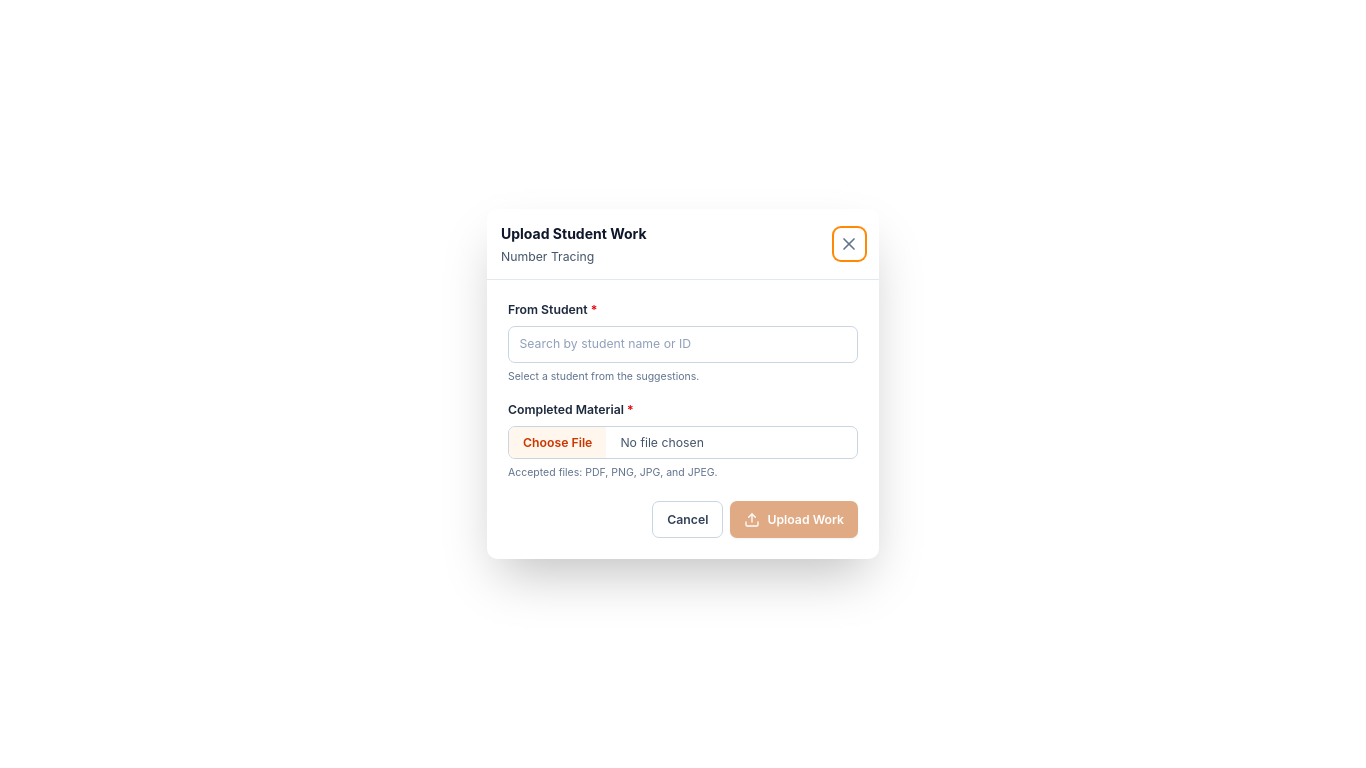
Test: UploadStudentWork student picker › matches a numeric student ID without throwing
The width and height of the screenshot is (1366, 768).
Step 1. Type "123" into the field labelled "From Student *" → (683, 344), box [508,326,858,362]
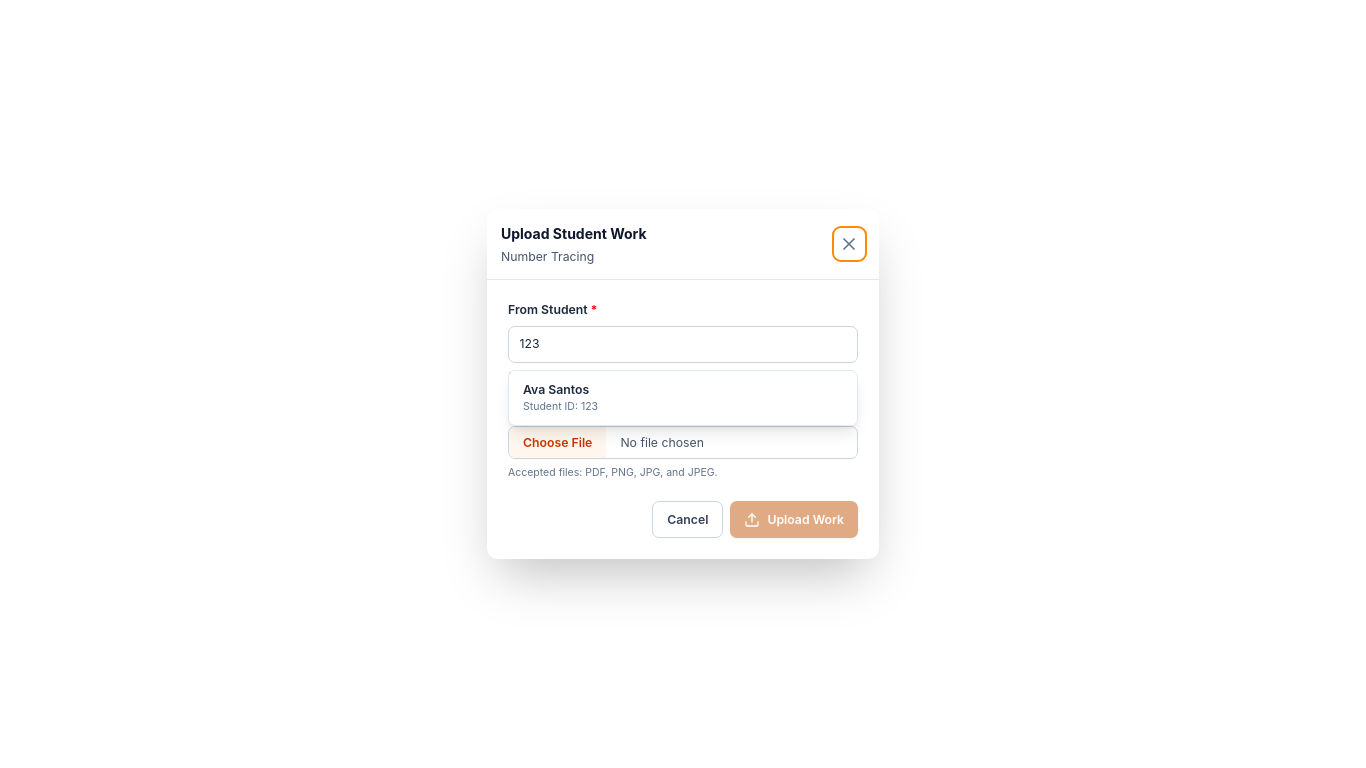
Now the option "Ava Santos Student ID: 123" is shown, box [509,370,857,425]
Now the text "Student ID: 123" is shown, box [523,400,598,414]
